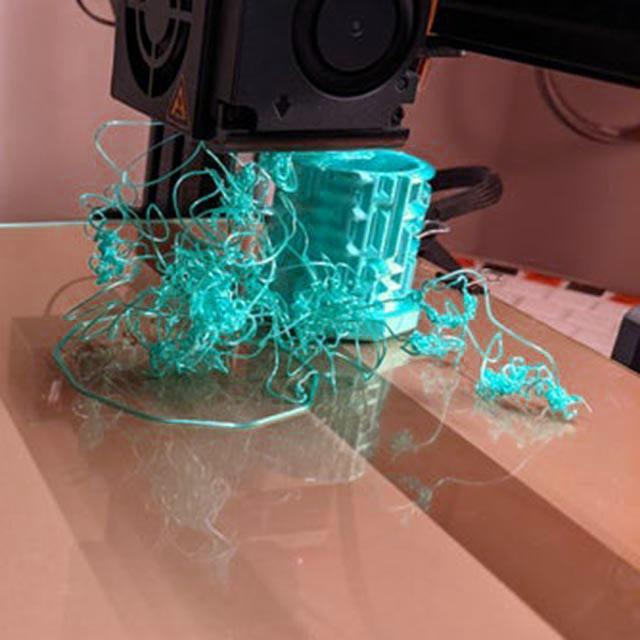Spaghetti: (52, 119, 360, 404), (370, 268, 592, 422)
